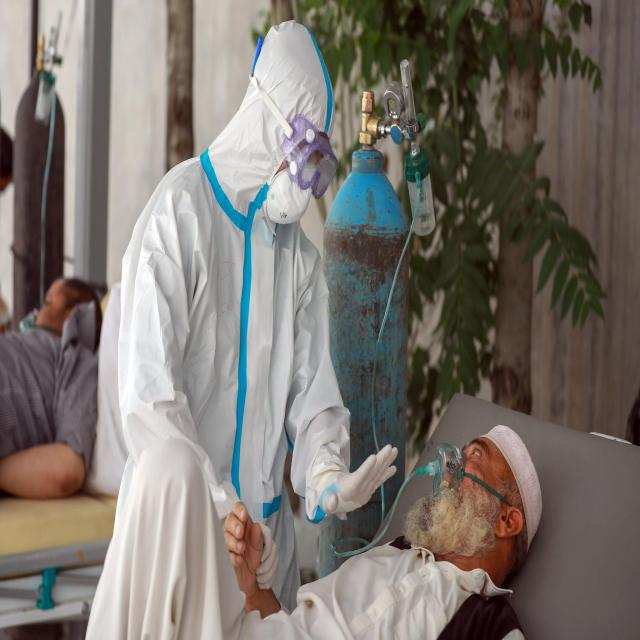Gloves: (317, 438, 399, 518)
Goggles: (278, 112, 339, 199)
Mask: (267, 163, 316, 235)
